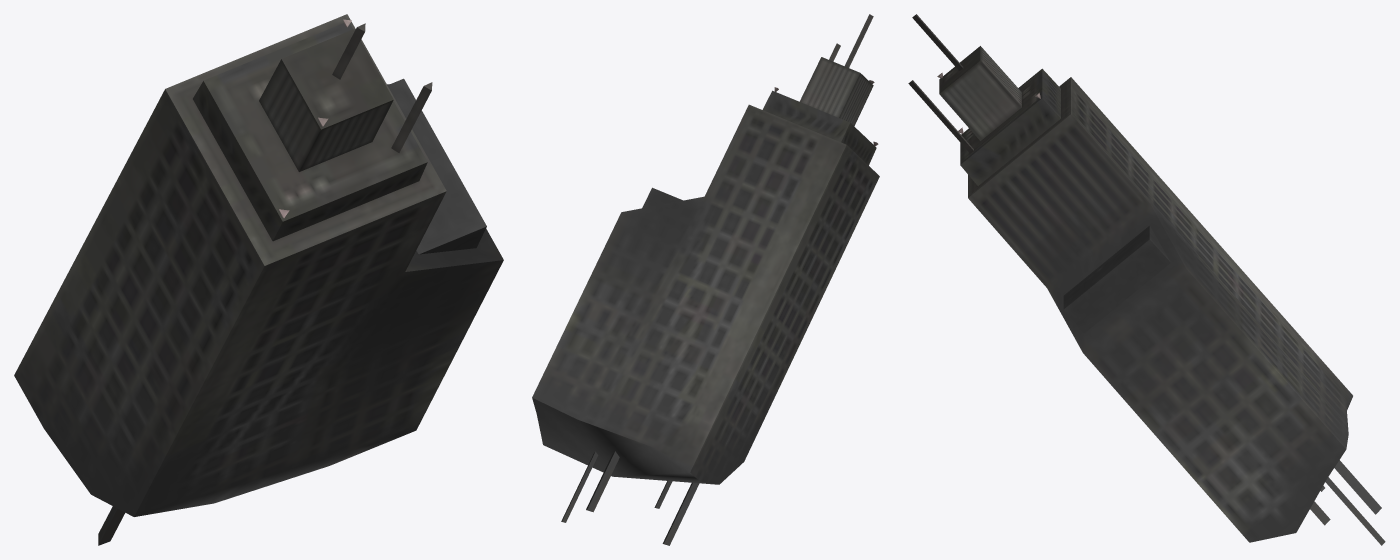
File: skyBuildingAAB_pos_grp (23).fbx
The picture shows the model from 3 angles, left to right: view 1: azimuth 30°, elevation 25°; view 2: azimuth 150°, elevation 25°; view 3: azimuth 270°, elevation 25°; orthographic projection. The views are drawn at different scales.
Visible parts, largest first — view 1: skyBuildingAAB_geo; view 2: skyBuildingAAB_geo; view 3: skyBuildingAAB_geo.
Boxes of the visible parts, x1,y1,x2,y2 form: skyBuildingAAB_geo: (14,14,503,545); skyBuildingAAB_geo: (532,14,879,545); skyBuildingAAB_geo: (908,14,1385,545).
Bounding box in the file's own units: 4.45 × 8.36 × 7.37.
